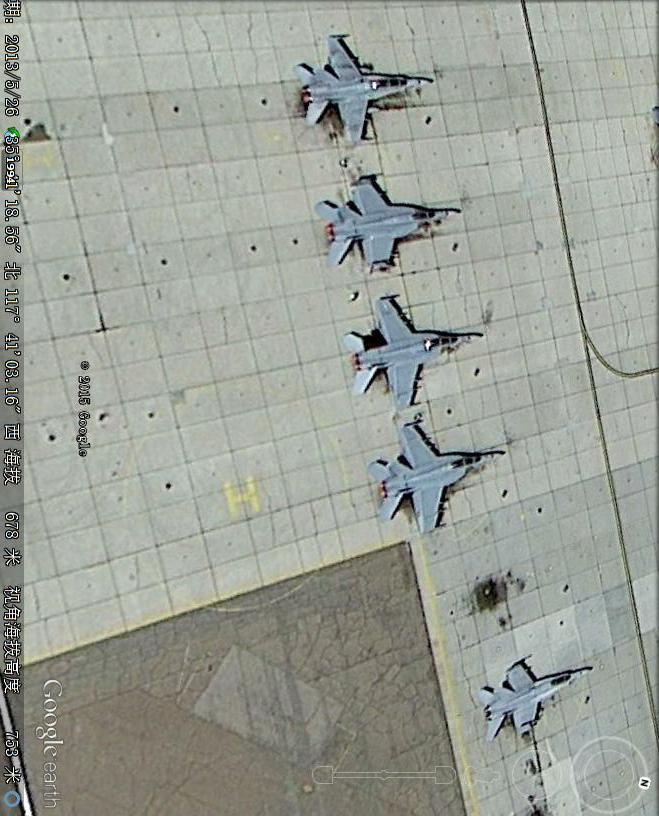F/A-18: (294, 35, 436, 143), (343, 300, 481, 411), (370, 426, 505, 535), (315, 175, 459, 277), (472, 656, 597, 745)
